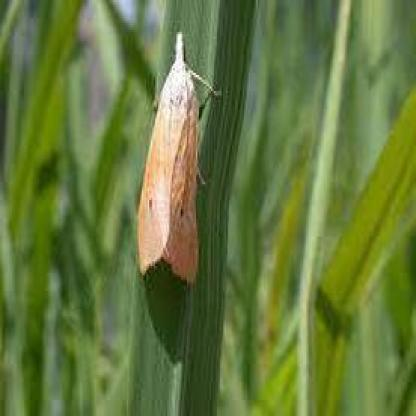stem-borer: (135, 26, 221, 286)
